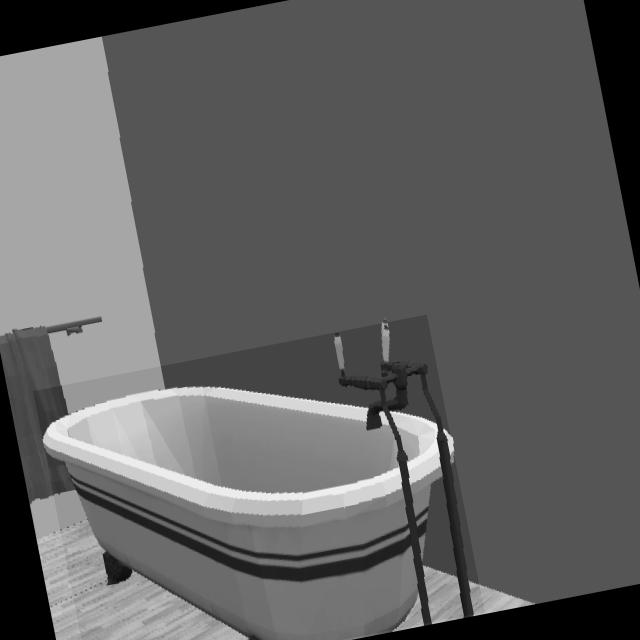bathtube: (43, 323, 472, 640)
